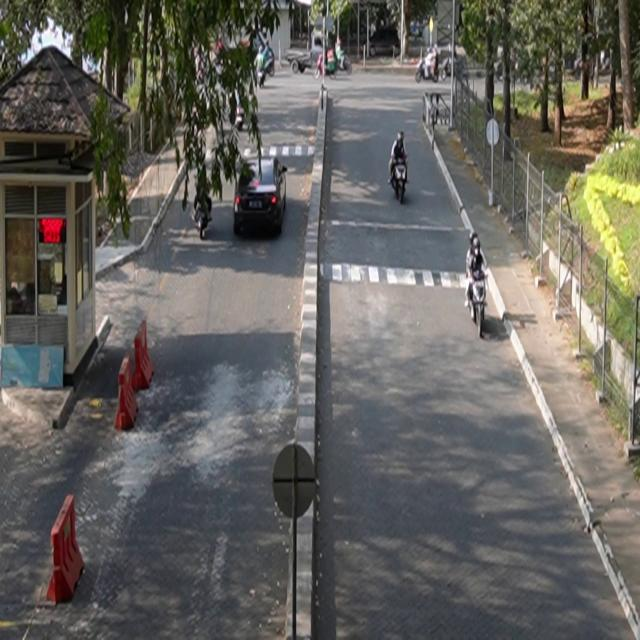car: (234, 153, 288, 237)
